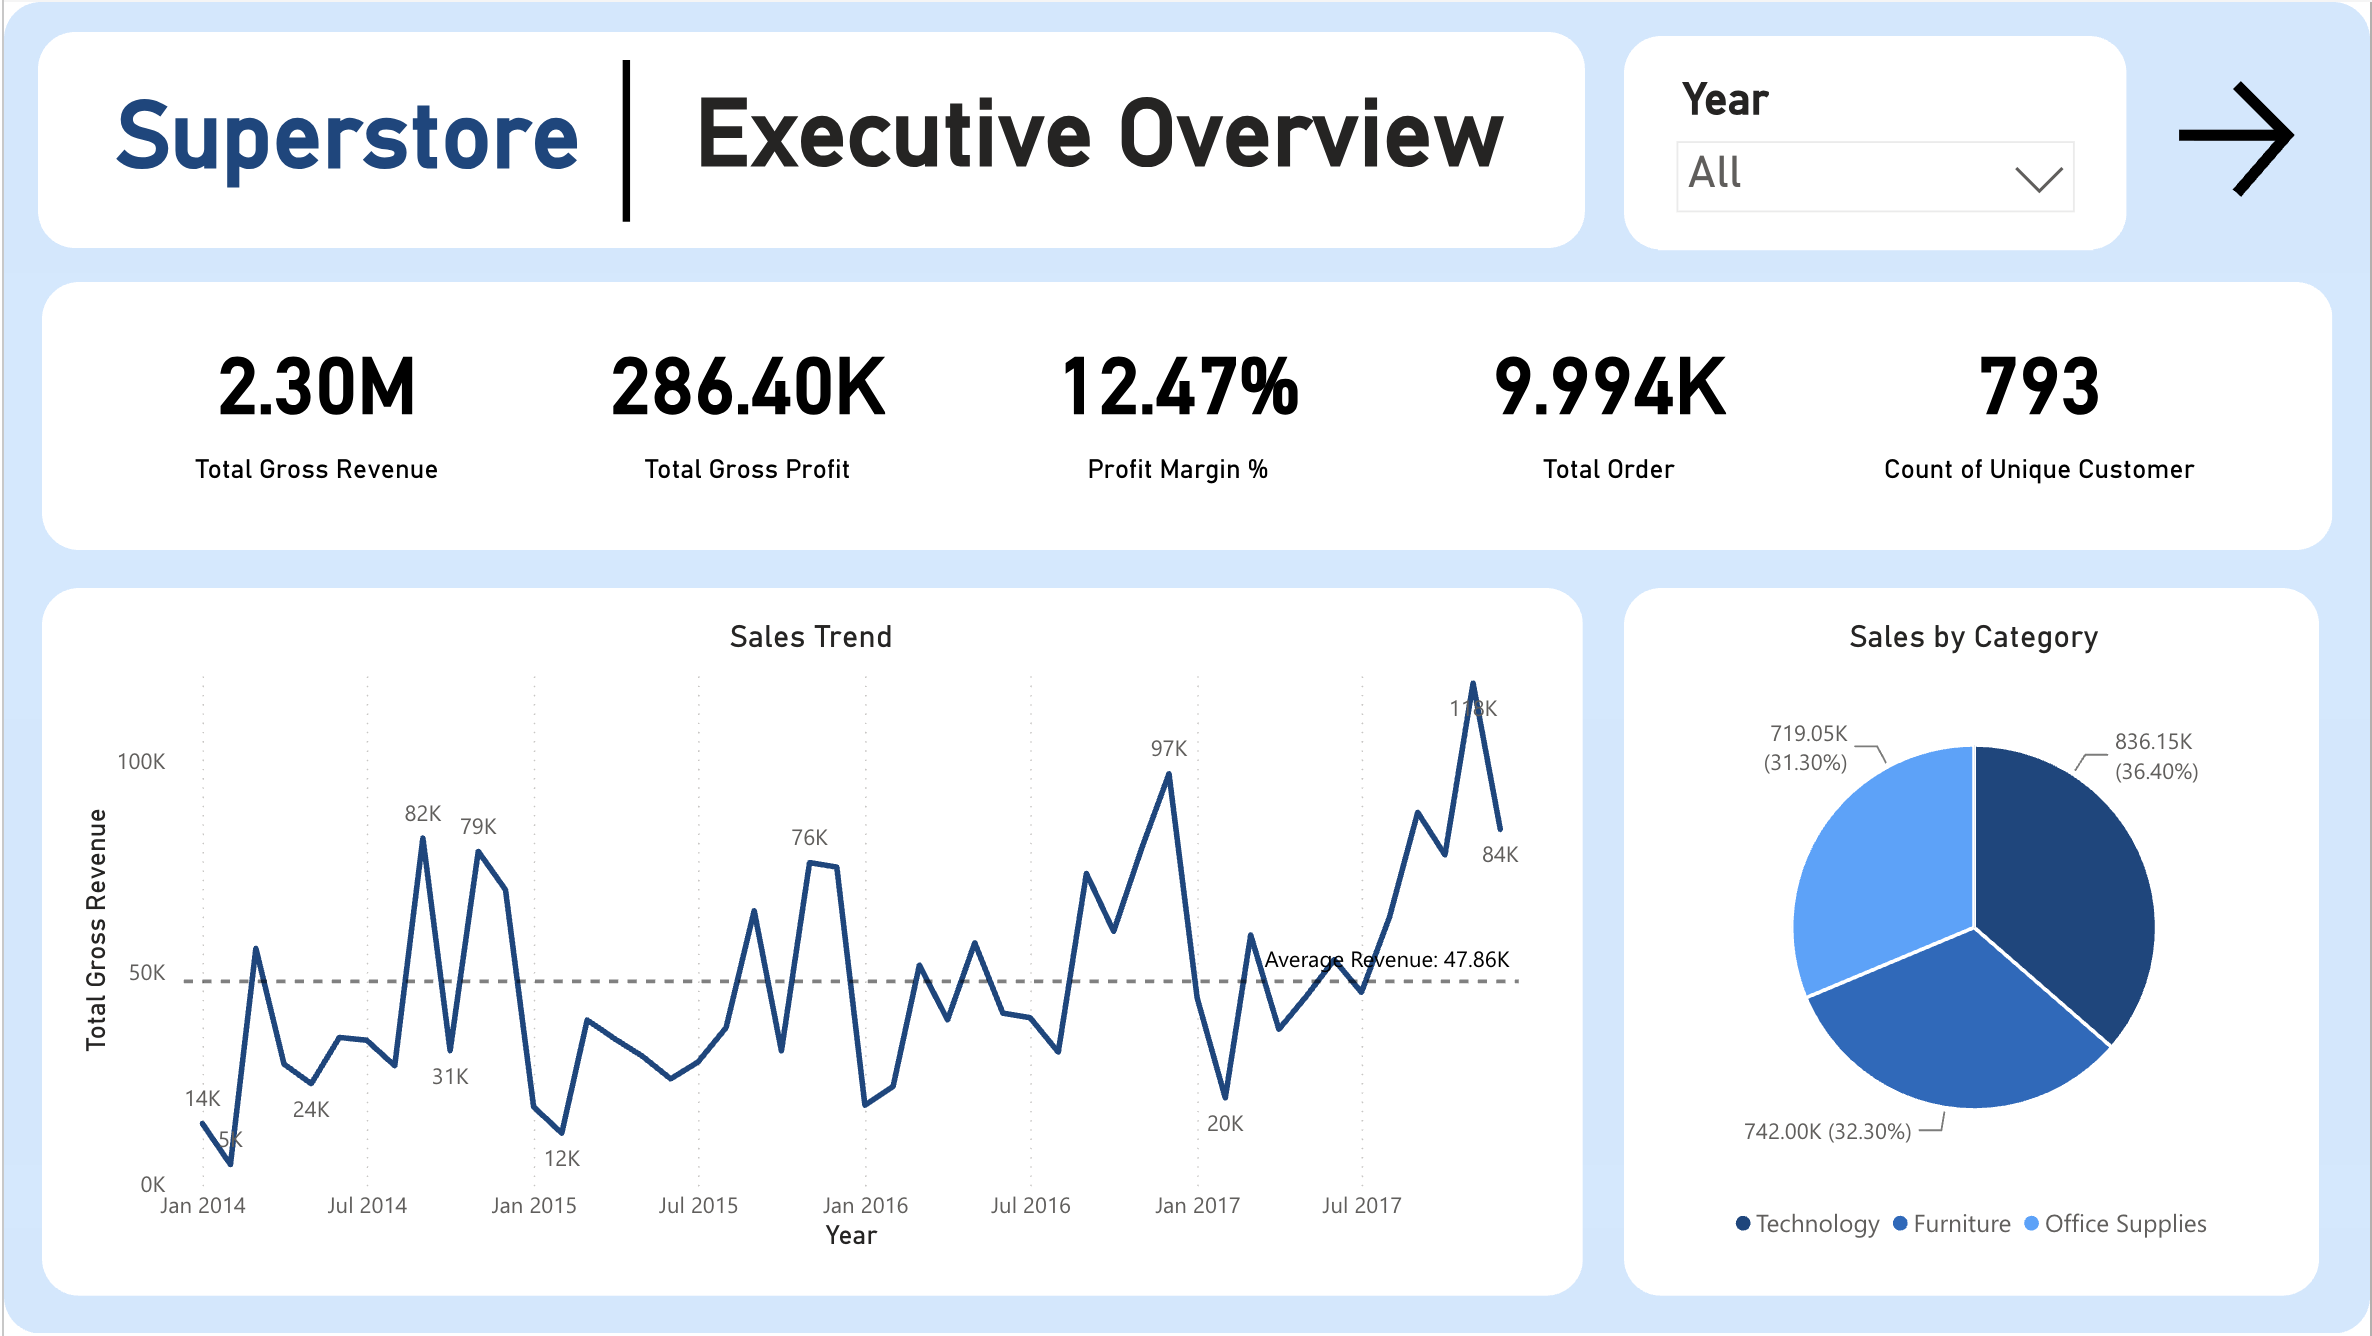

The dashboard page shown, as its layout file describes it:
{"tool":"powerbi","page":{"name":"Executive Overview","canvas":[1280,720],"ordinal":0},"visuals":[{"type":"shape","box":[0,0,1280,720.4],"z":0},{"type":"shape","box":[18.8,16.7,836.9,116.9],"z":1000},{"type":"textbox","box":[36.2,43,299,86.1],"z":2000},{"type":"shape","box":[283.8,31.3,106.4,87.7],"z":3000},{"type":"shape","box":[20.4,151.8,1239.2,145],"z":4000},{"type":"actionButton","box":[1169,36.2,83.8,74.8],"z":5000},{"type":"cardVisual","fields":{"Data":["Sample - Superstore.Total Gross Revenue","Sample - Superstore.Total Gorss Profit","Sample - Superstore.Profit Margin","CountNonNull(Sample - Superstore.Order ID)","Count(Sample - Superstore.Customer Name)"]},"box":[36.1,164.3,1201.9,130.2],"z":8000},{"type":"textbox","box":[350.5,42.1,484.8,86.1],"z":9000},{"type":"shape","box":[20.4,317.2,833.7,382.9],"z":10000},{"type":"lineChart","title":"Sales Trend","fields":{"Category":["Calendar.Date.Variation.Date Hierarchy.Year","Calendar.Date.Variation.Date Hierarchy.Quarter","Calendar.Date.Variation.Date Hierarchy.Month"],"Y":["Sample - Superstore.Total Gross Revenue"]},"box":[36.2,335.3,799.7,344.4],"z":11000},{"type":"shape","box":[876.7,317.2,376.1,382.9],"z":12000},{"type":"pieChart","title":"Sales by Category","fields":{"Category":["Sample - Superstore.Category"],"Y":["Sample - Superstore.Total Gross Revenue"]},"box":[894.9,335.3,342.1,344.4],"z":13000},{"type":"shape","box":[876.7,18.1,271.9,115.5],"z":14000},{"type":"slicer","fields":{"Values":["Calendar.Year"]},"box":[894.9,36.2,235.6,97.4],"z":15000}]}

Visuals, with their boxes in screenshot pixels (x1, y1, x2, y2), scaled from the page's 1280x720 canvas onto the 2372x1336 screenshot:
shape: (0,0,2371,1335)
shape: (35,31,1586,248)
textbox: (67,80,621,240)
shape: (526,58,723,221)
shape: (38,282,2334,551)
actionButton: (2166,67,2322,206)
cardVisual - Sample - Superstore.Total Gross Revenue x Sample - Superstore.Total Gorss Profit: (67,305,2294,546)
textbox: (650,78,1548,238)
shape: (38,589,1583,1299)
"Sales Trend" lineChart: (67,622,1549,1261)
shape: (1625,589,2322,1299)
"Sales by Category" pieChart: (1658,622,2292,1261)
shape: (1625,34,2128,248)
slicer - Calendar.Year: (1658,67,2095,248)
